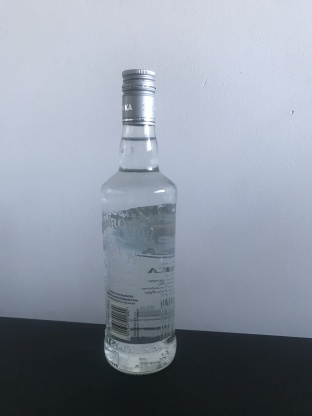nakretka: (120, 67, 158, 127)
